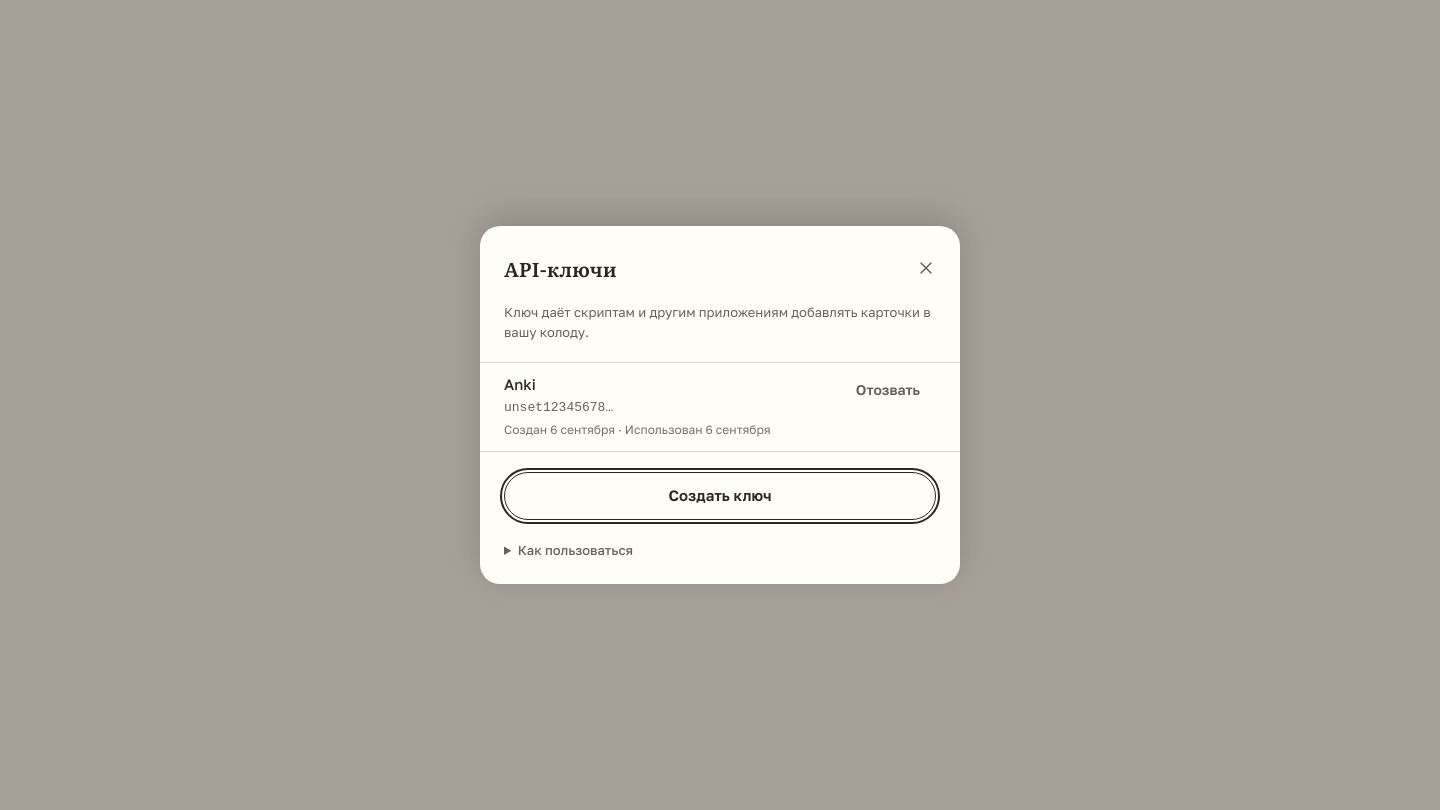
it: ApiKeysSheet › revokes a key and drops it from the list
Step 1. Click the button "Отозвать" → (888,390), box [840,368,936,412]
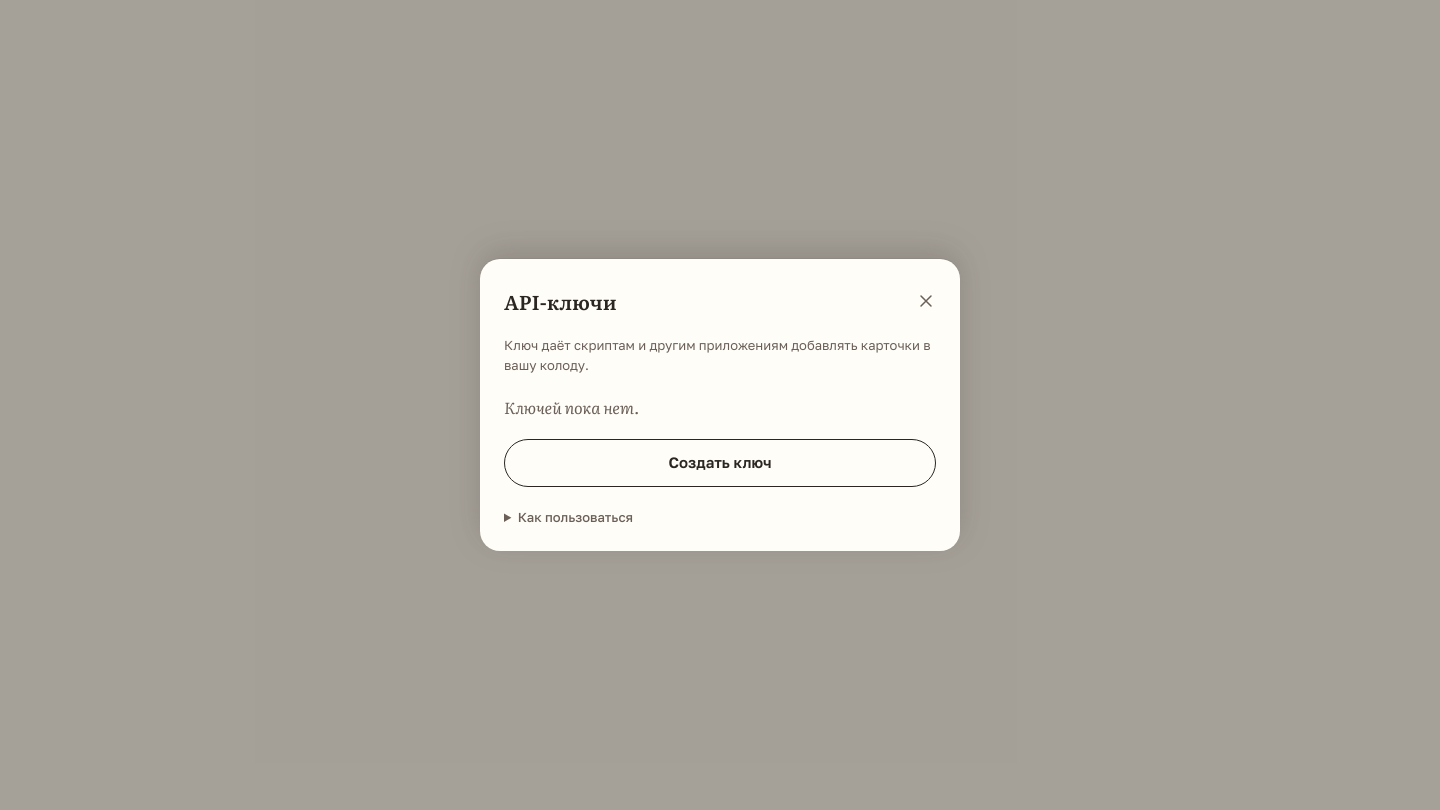
expect the text "Anki" is gone: met
expect the text "Ключей пока нет." is shown: met, box [504,395,639,419]
